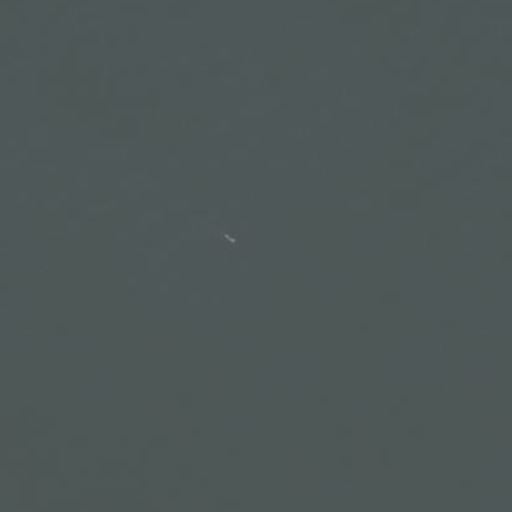ship: (220, 230, 240, 248)
